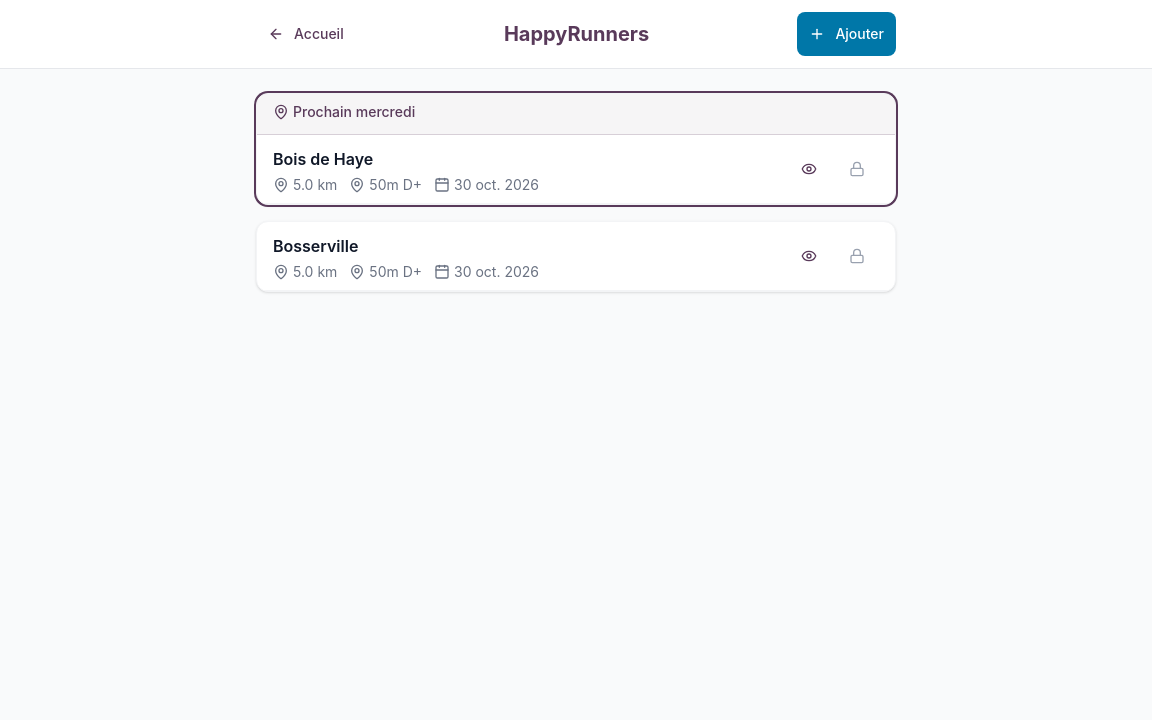
it: ParcoursList — code administrateur › le bon code révèle suppression et modification
Expected: the heading "Bois de Haye" is shown, top-left (273, 149), bottom-right (373, 169)
Step 1. Click the button named "Déverrouiller la gestion des parcours" in the row of "Bois de Haye" → {"x": 857, "y": 169}, box top-left (835, 147), bottom-right (879, 191)
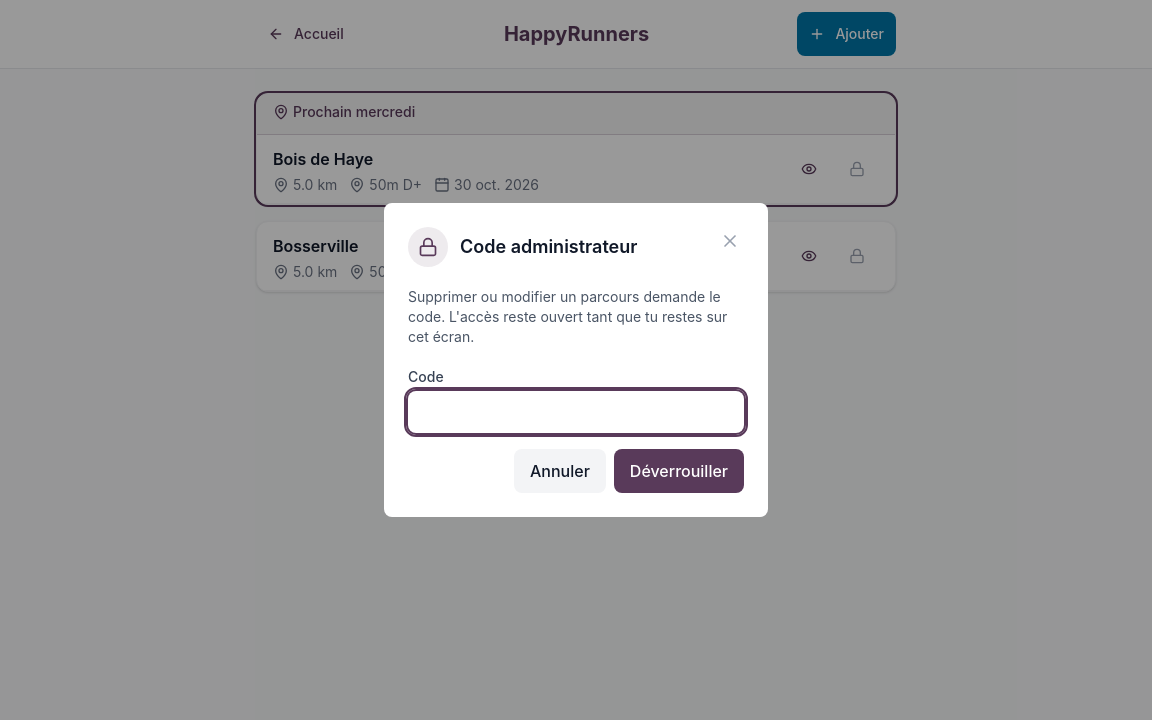
Step 2. Type "club-secret" into the password field labelled "Code" → {"x": 576, "y": 412}, box top-left (408, 391), bottom-right (744, 433)
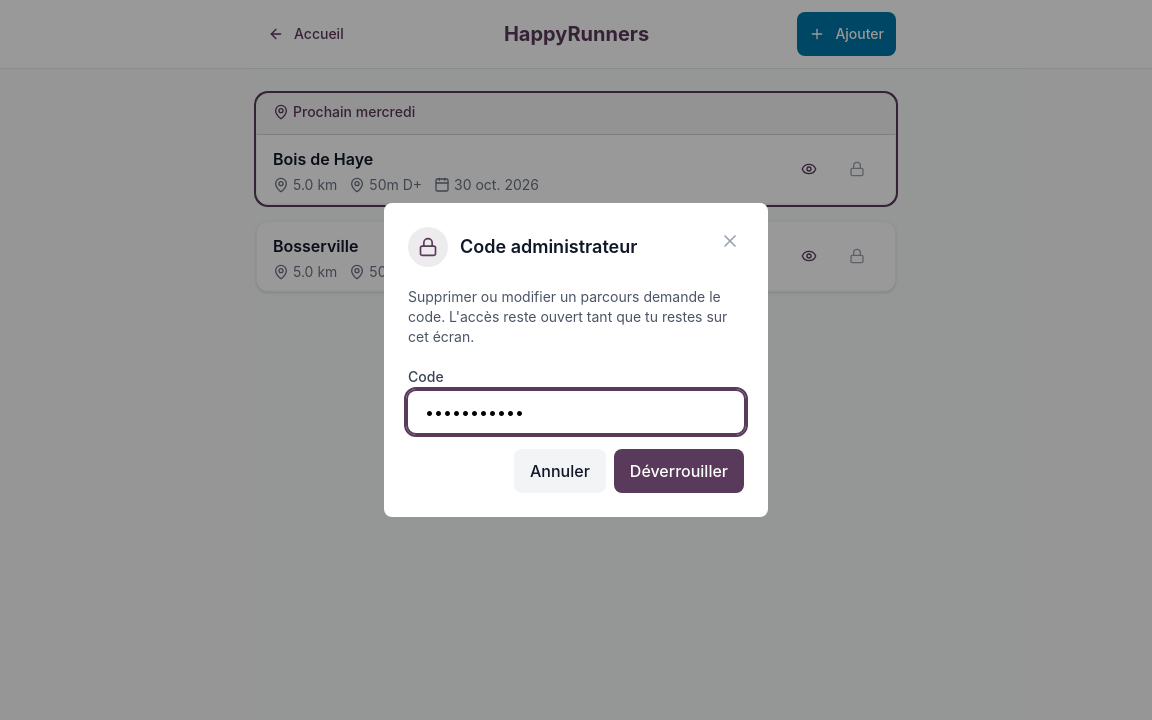
Step 3. Click the button "Déverrouiller" → {"x": 679, "y": 471}, box top-left (614, 449), bottom-right (744, 493)
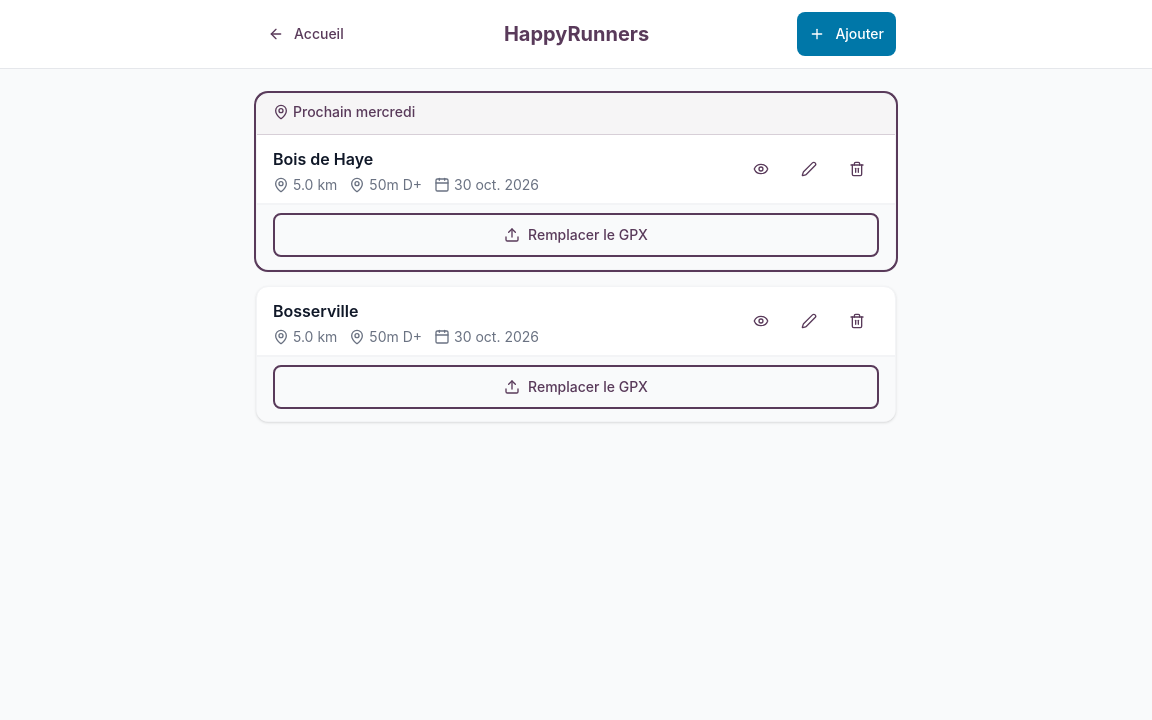
Expected: the number of buttons named "Supprimer" is 2, top-left (835, 147), bottom-right (879, 191); top-left (835, 299), bottom-right (879, 343)
Expected: the number of buttons named "Modifier" is 2, top-left (787, 147), bottom-right (831, 191); top-left (787, 299), bottom-right (831, 343)
Expected: the number of buttons "Remplacer le GPX" is 2, top-left (273, 213), bottom-right (879, 257); top-left (273, 365), bottom-right (879, 409)
